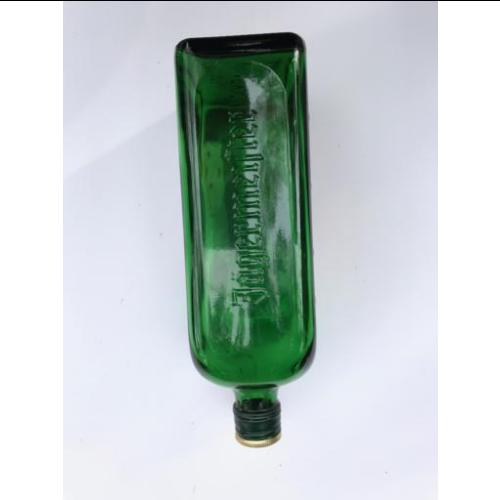glass: (176, 35, 313, 450)
